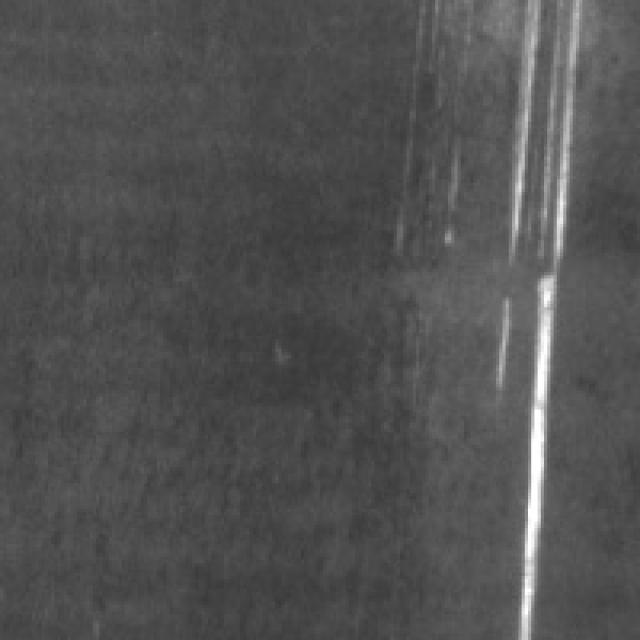scratches: (489, 0, 582, 630)
